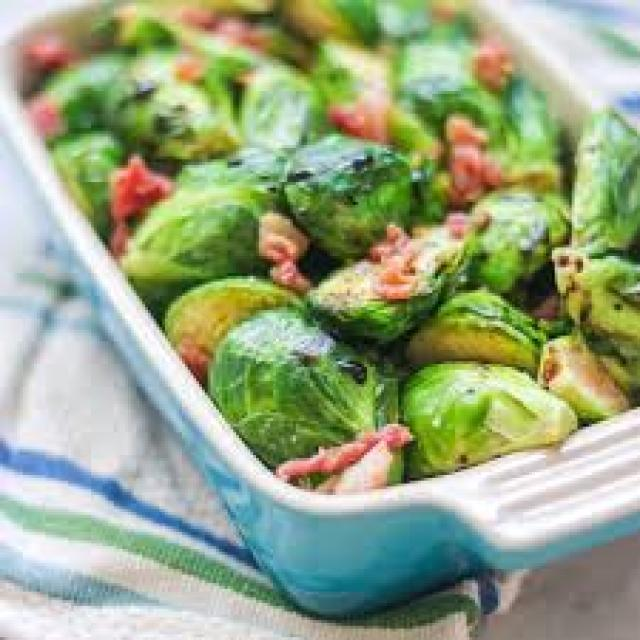organic waste: (17, 0, 637, 486), (205, 296, 407, 486), (116, 145, 298, 307), (299, 219, 469, 341), (398, 356, 572, 475), (407, 68, 563, 182), (282, 131, 418, 256), (97, 48, 239, 156), (162, 270, 299, 376), (552, 239, 637, 404), (392, 285, 558, 364), (458, 185, 569, 299), (569, 102, 637, 250), (308, 34, 396, 145), (276, 418, 410, 489), (534, 327, 628, 427), (376, 100, 446, 219), (233, 51, 313, 154), (156, 3, 282, 68), (51, 125, 122, 239), (196, 5, 310, 62), (57, 57, 145, 128), (393, 28, 475, 102), (103, 151, 162, 253), (441, 111, 495, 208), (278, 0, 375, 48), (364, 225, 415, 296), (327, 88, 390, 142), (105, 0, 171, 46), (250, 205, 308, 256), (32, 65, 68, 134), (466, 32, 515, 82), (376, 0, 430, 34), (23, 26, 85, 54), (432, 3, 470, 45), (190, 0, 278, 17), (265, 253, 307, 287)
